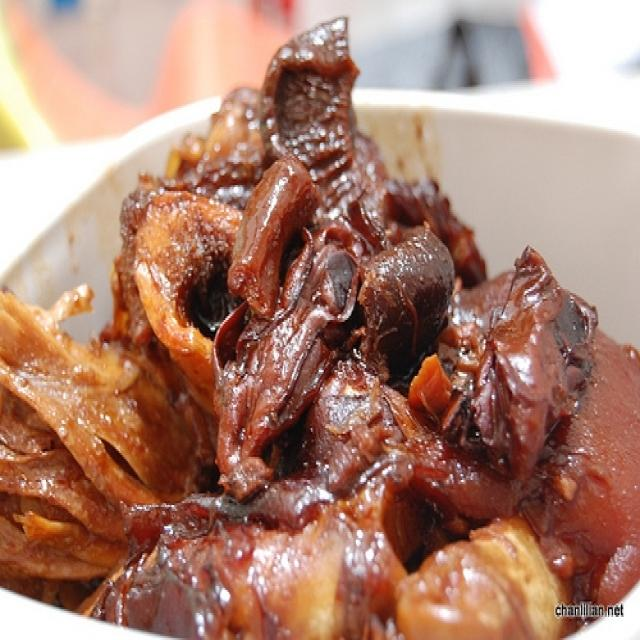猪肉菜式: (19, 23, 621, 609)
